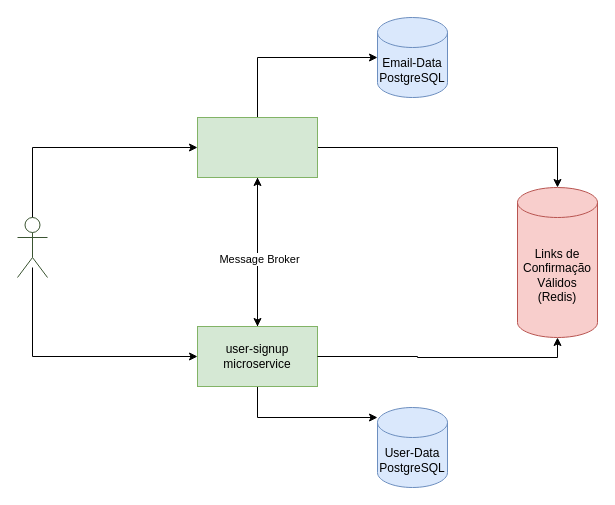
This 615x505 diagram has some shape labels left out. Each missing label, with the centre of its shape:
"email-confirm micro service" belongs at pixel 257 147.
"User" belongs at pixel 32 247.
